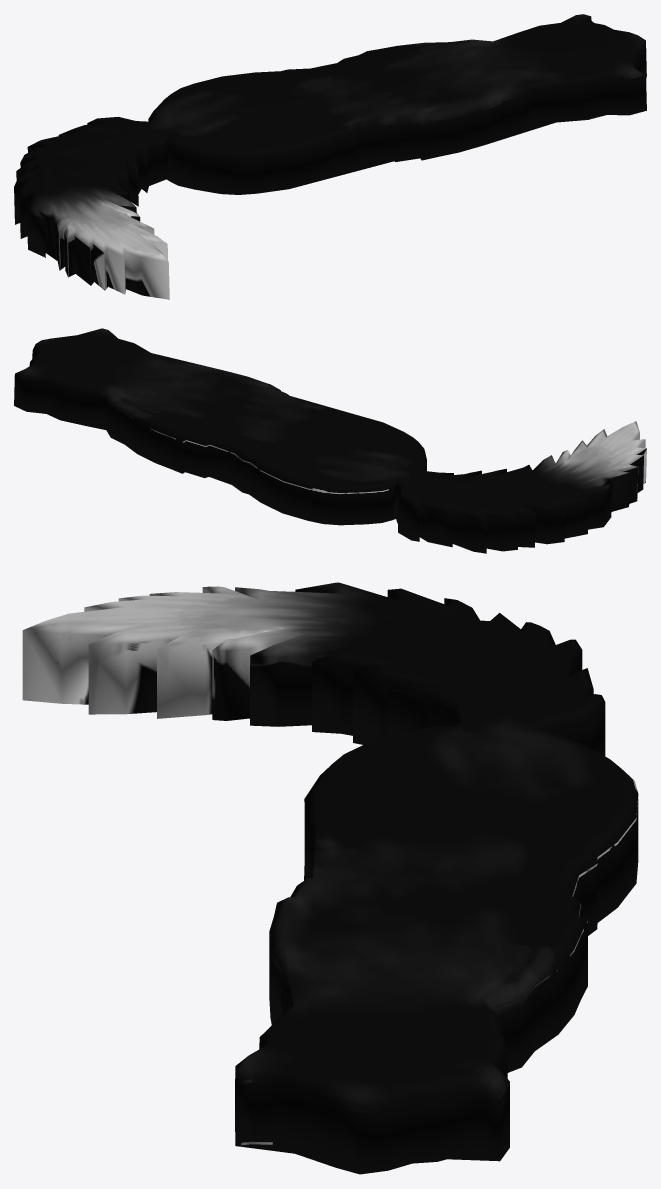
The model's file is Luna_stoji.fbx.
3 renders of one model, top to bottom at view 1: azimuth 30°, elevation 25°; view 2: azimuth 150°, elevation 25°; view 3: azimuth 270°, elevation 25°, orthographic. The views are drawn at different scales.
Parts seen in each view (by area): view 1: Luna.001; view 2: Luna.001; view 3: Luna.001.
Boxes of the visible parts, x1,y1,x2,y2 form: Luna.001: (14, 14, 646, 299); Luna.001: (14, 328, 646, 553); Luna.001: (22, 582, 638, 1174).
Bounding box in the file's own units: 45.55 × 4.19 × 21.47.
1 material, 1 textured.
